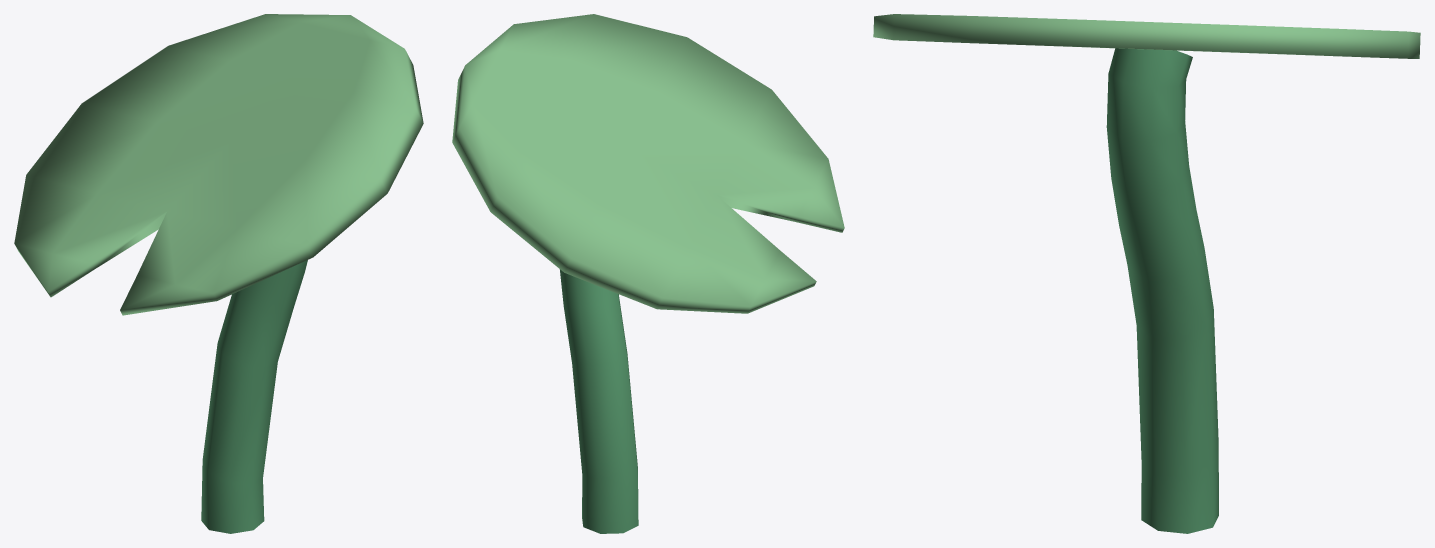
File: lilypad1.fbx
3 renders of one model, left to right at view 1: azimuth 30°, elevation 25°; view 2: azimuth 150°, elevation 25°; view 3: azimuth 270°, elevation 25°, orthographic. The views are drawn at different scales.
Parts seen in each view (by area): view 1: lilypad1; view 2: lilypad1; view 3: lilypad1.
Boxes of the visible parts, bbox=[...] form: lilypad1: bbox=[14, 14, 423, 533]; lilypad1: bbox=[452, 14, 844, 533]; lilypad1: bbox=[873, 14, 1420, 533].
Size of the model in its own units: 83.03 by 107 by 90.81.
